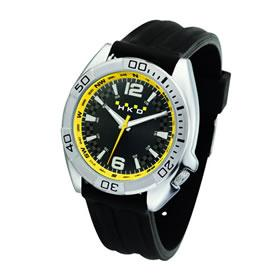watch: (54, 48, 203, 207)
